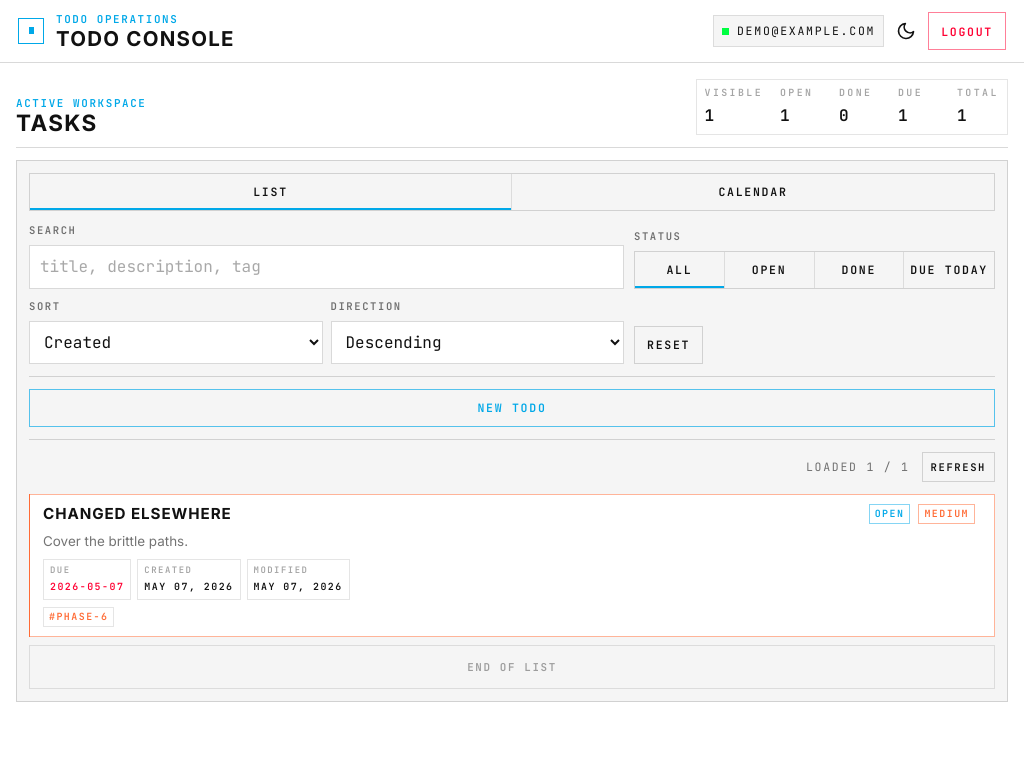
Test: todos UI › Delete409_RefetchesTodo_AndKeepsDialogRecoveryPath
Expected: the heading "Changed elsewhere" is shown, [43,504,232,523]
Step 1. Click the list item → (512, 566), box [29,494,995,638]
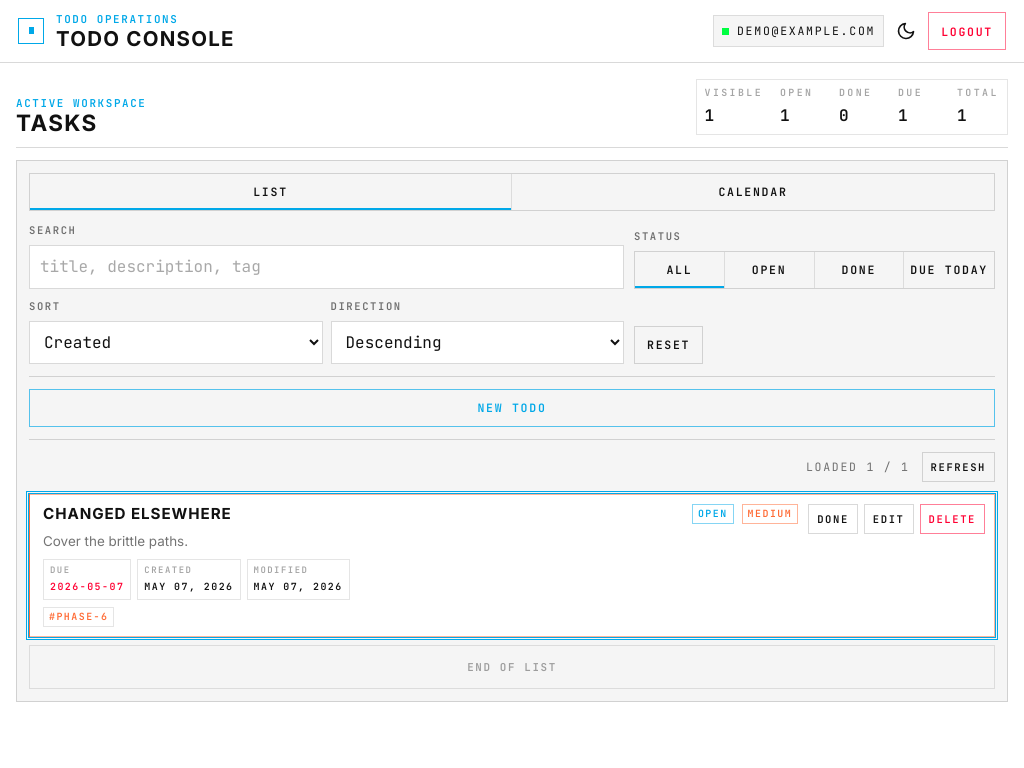
Step 2. Click the button "Delete" → (952, 519), box [920,504,985,534]
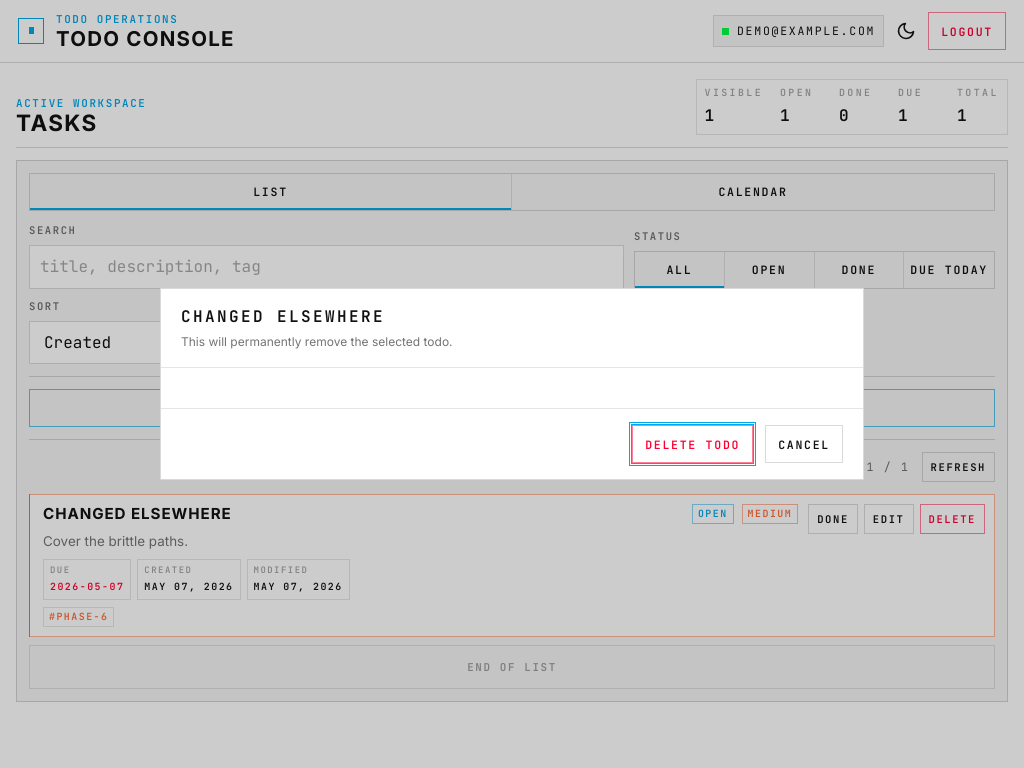
Step 3. Click the button with test id "todo-delete-confirm" → (693, 444), box [632,425,753,463]
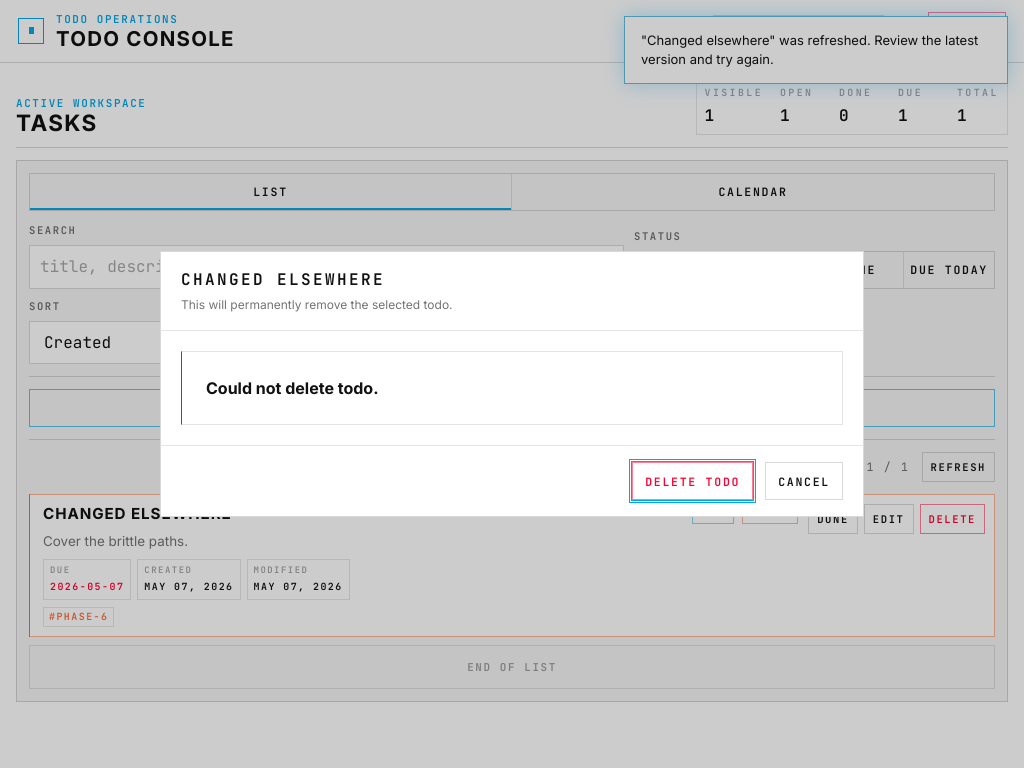
Expected: the dialog with test id "dialog-delete-todo" is shown, [160,251,864,517]
Expected: the text "\"Changed elsewhere\" was refreshed. Review the latest version and try again." is shown, [624,16,1008,84]
